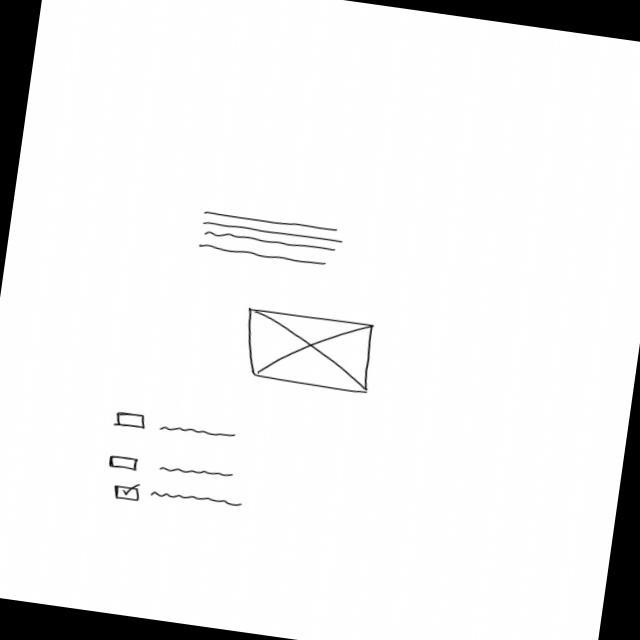checkbox: (112, 481, 245, 520), (112, 410, 241, 446), (106, 453, 237, 486)
image: (238, 308, 380, 398)
textbox: (194, 206, 346, 275)
